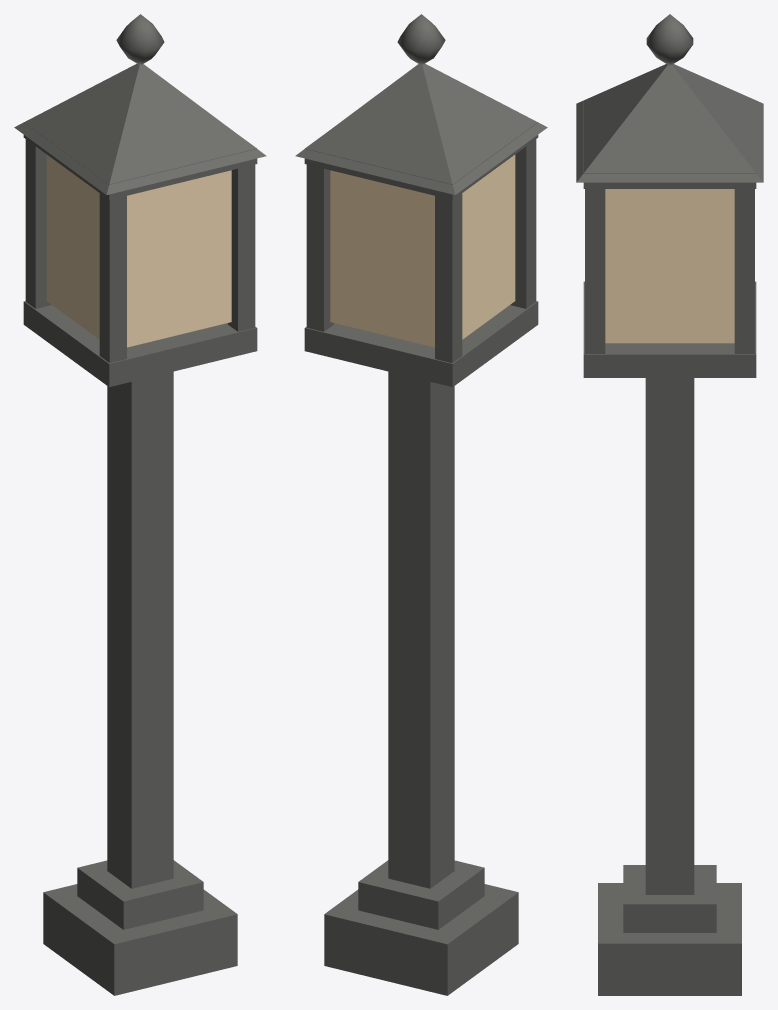
Rendered from lantern.glb.
3 renders of one model, left to right at view 1: azimuth 30°, elevation 25°; view 2: azimuth 150°, elevation 25°; view 3: azimuth 270°, elevation 25°, orthographic.
Visible parts, largest first — view 1: Lantern | slim post, Lantern | pyramid cap, Lantern | glowing y pane, Lantern | square foot, Lantern | glowing x pane, Lantern | head bottom, Lantern | foot collar, Lantern | corner upright, Lantern | corner upright.002, Lantern | corner upright.001, Lantern | head top, Lantern | rounded finial; view 2: Lantern | slim post, Lantern | pyramid cap, Lantern | glowing y pane.001, Lantern | square foot, Lantern | glowing x pane, Lantern | head bottom, Lantern | foot collar, Lantern | corner upright.001, Lantern | corner upright.003, Lantern | corner upright, Lantern | head top, Lantern | rounded finial; view 3: Lantern | slim post, Lantern | glowing x pane.001, Lantern | pyramid cap, Lantern | square foot, Lantern | head bottom, Lantern | foot collar, Lantern | corner upright.002, Lantern | corner upright.003, Lantern | rounded finial, Lantern | head top.
Boxes of the visible parts, x1,y1,x2,y2 form: Lantern | slim post: [107, 371, 173, 888]; Lantern | pyramid cap: [14, 63, 266, 194]; Lantern | glowing y pane: [127, 170, 231, 347]; Lantern | square foot: [43, 884, 237, 995]; Lantern | glowing x pane: [46, 154, 99, 339]; Lantern | head bottom: [23, 301, 257, 387]; Lantern | foot collar: [77, 860, 203, 929]; Lantern | corner upright: [99, 193, 126, 362]; Lantern | corner upright.002: [228, 164, 255, 331]; Lantern | corner upright.001: [25, 139, 51, 308]; Lantern | head top: [23, 122, 257, 199]; Lantern | rounded finial: [116, 14, 164, 64]; Lantern | slim post: [388, 371, 454, 888]; Lantern | pyramid cap: [295, 63, 547, 194]; Lantern | glowing y pane.001: [330, 170, 434, 347]; Lantern | square foot: [324, 884, 518, 995]; Lantern | glowing x pane: [462, 154, 515, 339]; Lantern | head bottom: [304, 301, 538, 387]; Lantern | foot collar: [358, 860, 484, 929]; Lantern | corner upright.001: [435, 193, 462, 362]; Lantern | corner upright.003: [306, 164, 333, 331]; Lantern | corner upright: [510, 139, 536, 308]; Lantern | head top: [304, 122, 538, 199]; Lantern | rounded finial: [397, 14, 445, 64]; Lantern | slim post: [645, 378, 694, 894]; Lantern | glowing x pane.001: [605, 189, 734, 343]; Lantern | pyramid cap: [576, 64, 763, 182]; Lantern | square foot: [598, 883, 741, 995]; Lantern | head bottom: [583, 281, 756, 377]; Lantern | foot collar: [623, 865, 716, 932]; Lantern | corner upright.002: [585, 189, 605, 353]; Lantern | corner upright.003: [734, 189, 754, 353]; Lantern | rounded finial: [646, 14, 693, 65]; Lantern | head top: [583, 100, 756, 188].
Bounding box in the file's own units: 0.13 × 0.729 × 0.13.
